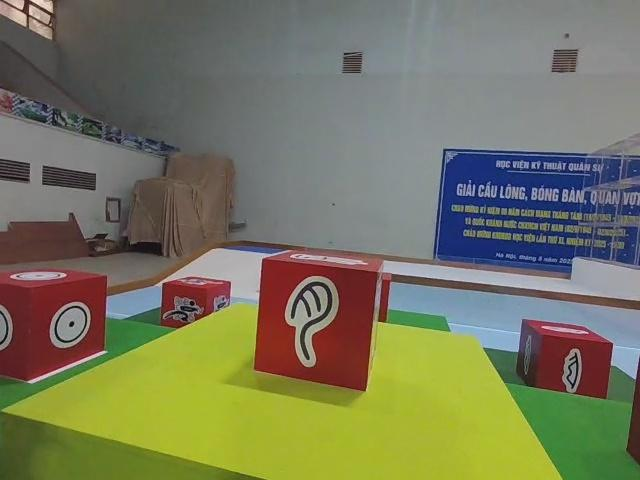R1: (161, 270, 232, 329)
R2 Fake: (250, 247, 381, 398)
R2 Real: (0, 265, 110, 384), (515, 317, 613, 403)
